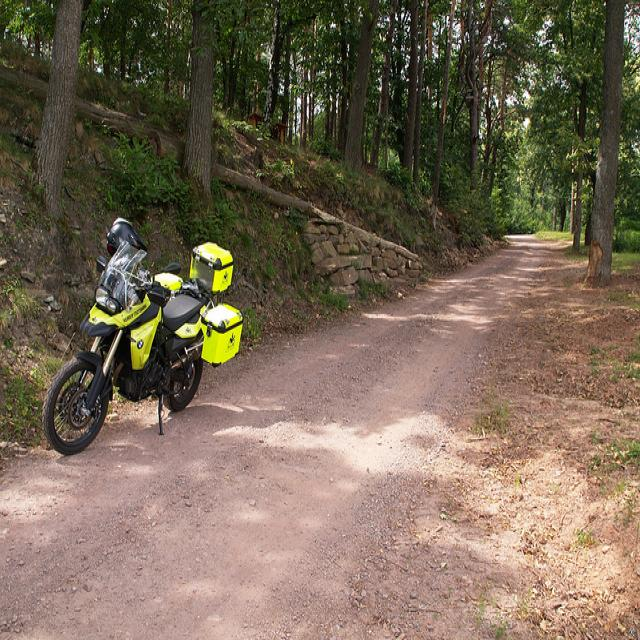motor: (42, 215, 246, 461)
